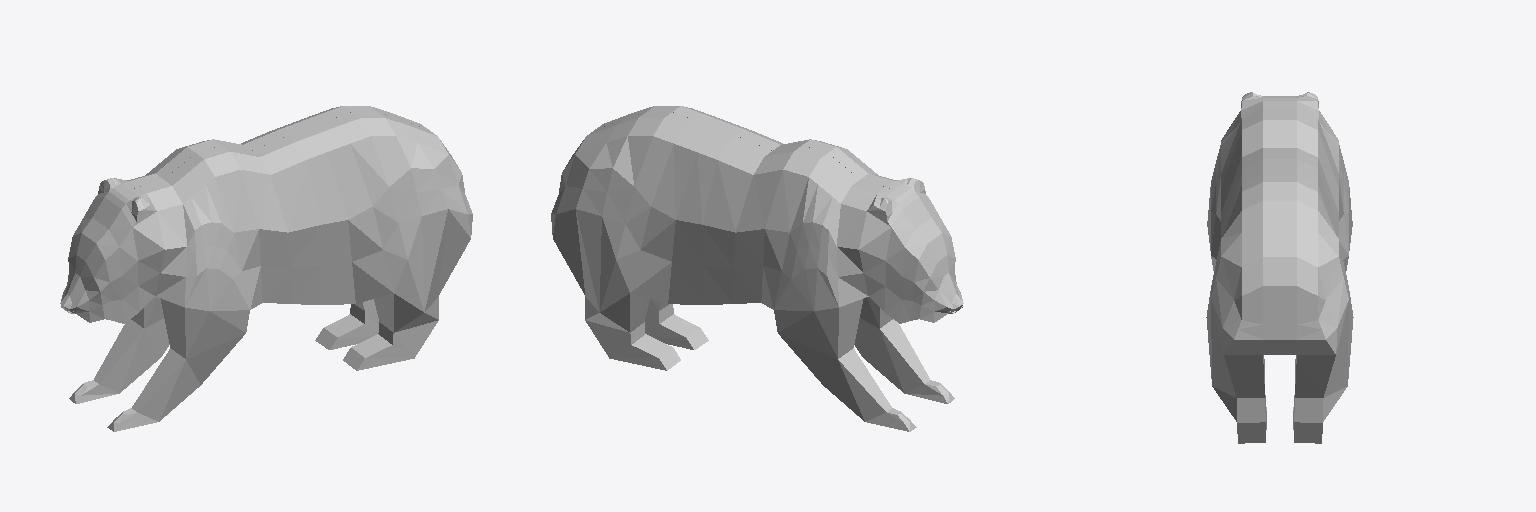
The model's file is bearproto.obj.
3 renders of one model, left to right at view 1: azimuth 30°, elevation 25°; view 2: azimuth 150°, elevation 25°; view 3: azimuth 270°, elevation 25°, orthographic.
Parts seen in each view (by area): view 1: Plane; view 2: Plane; view 3: Plane.
Boxes of the visible parts, <box> form: Plane: <box>60,106,472,431</box>; Plane: <box>551,106,963,431</box>; Plane: <box>1206,92,1353,443</box>.
Size of the model in its own units: 5.68 by 3.37 by 1.86.